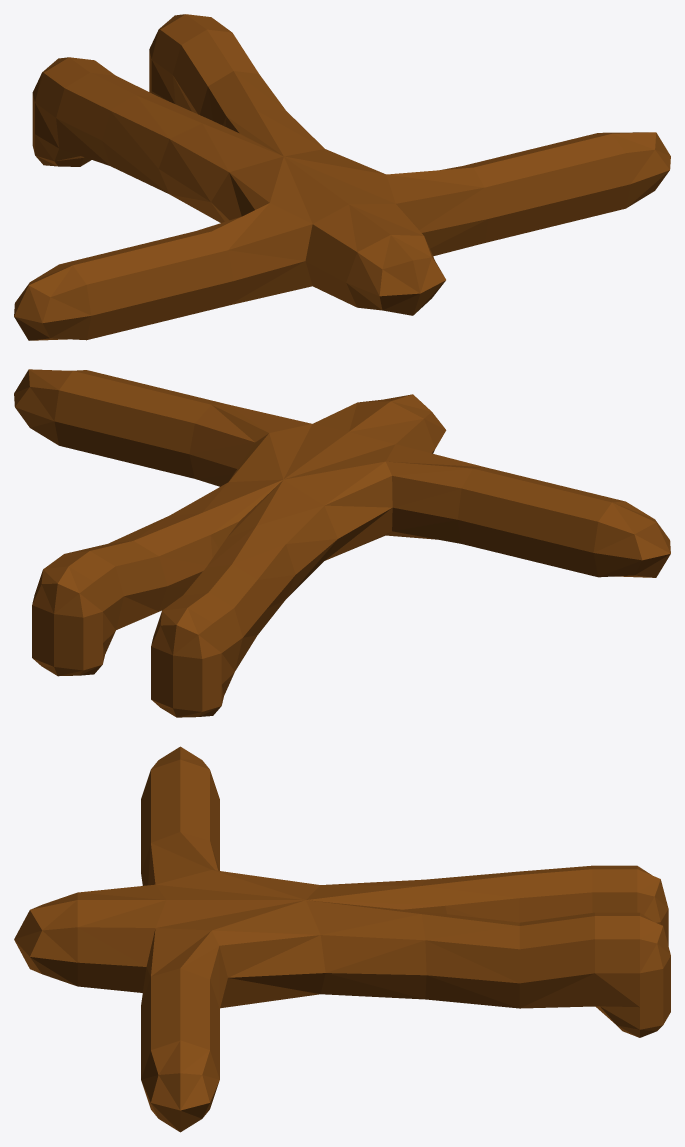
The model's file is sackman_wtf.obj.
3 renders of one model, top to bottom at view 1: azimuth 30°, elevation 25°; view 2: azimuth 150°, elevation 25°; view 3: azimuth 270°, elevation 25°, orthographic. The views are drawn at different scales.
Parts seen in each view (by area): view 1: group1; view 2: group1; view 3: group1.
Boxes of the visible parts, left/top/right/bottom form: group1: left=14, top=14, right=670, bottom=340; group1: left=14, top=369, right=670, bottom=717; group1: left=14, top=746, right=670, bottom=1132.
Size of the model in its own units: 660 by 115 by 536.
